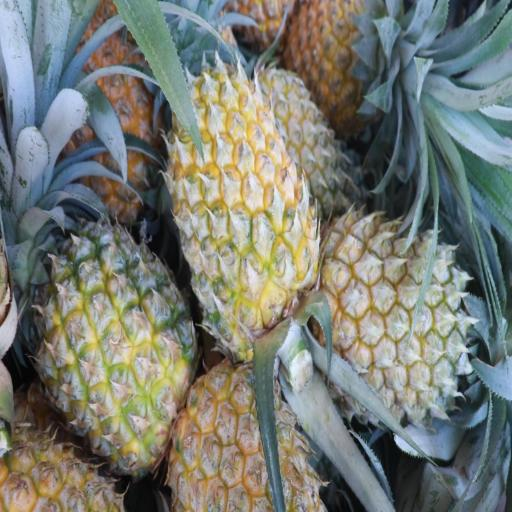------------------------------: (36, 217, 200, 476)
Pineapple - v8 v1: (165, 33, 323, 369), (305, 209, 476, 428), (279, 0, 426, 150)
